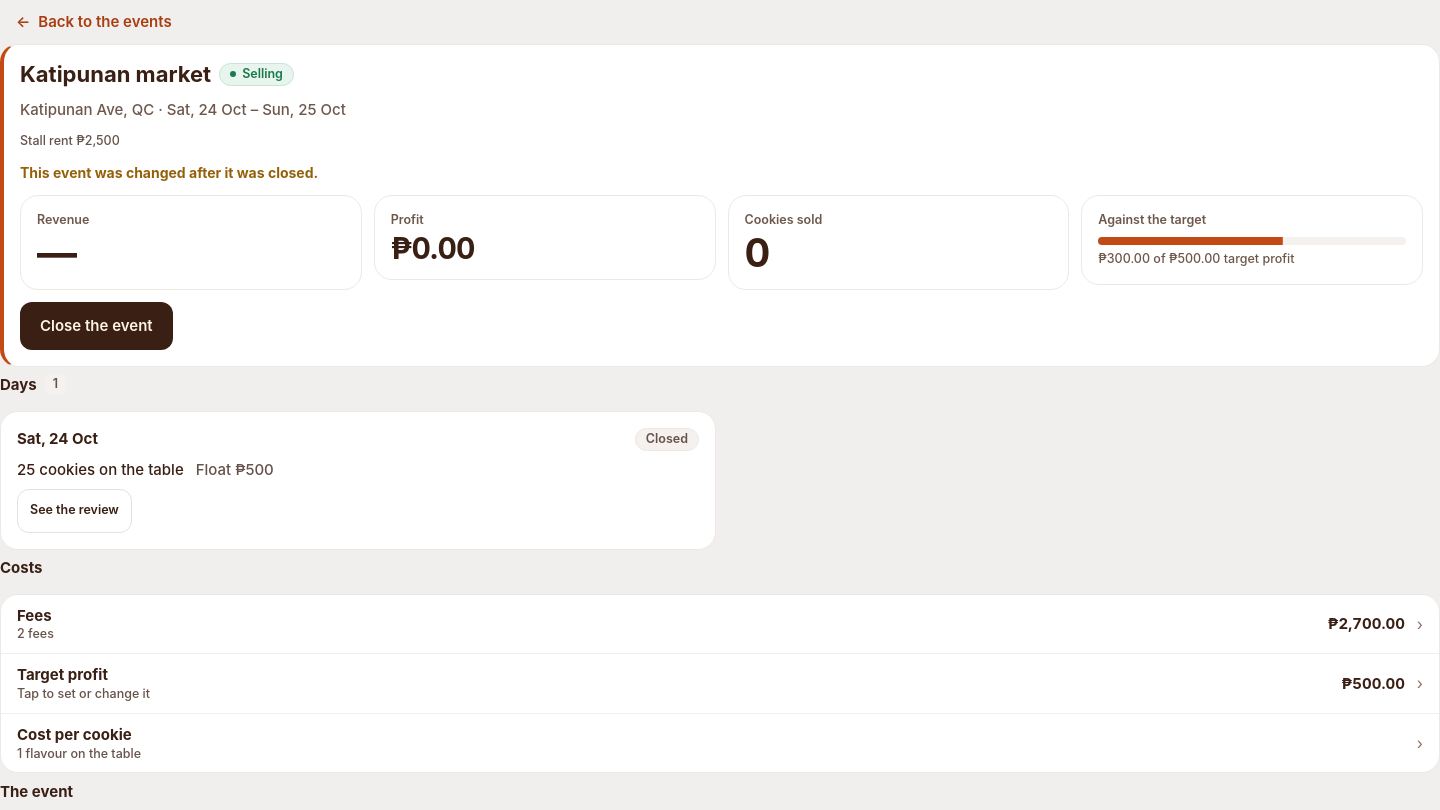
Test: the event page › asks before it closes the event, and says what the run refused
Click the button "Close the event" at {"x": 96, "y": 326}, box top-left (20, 302), bottom-right (173, 350)
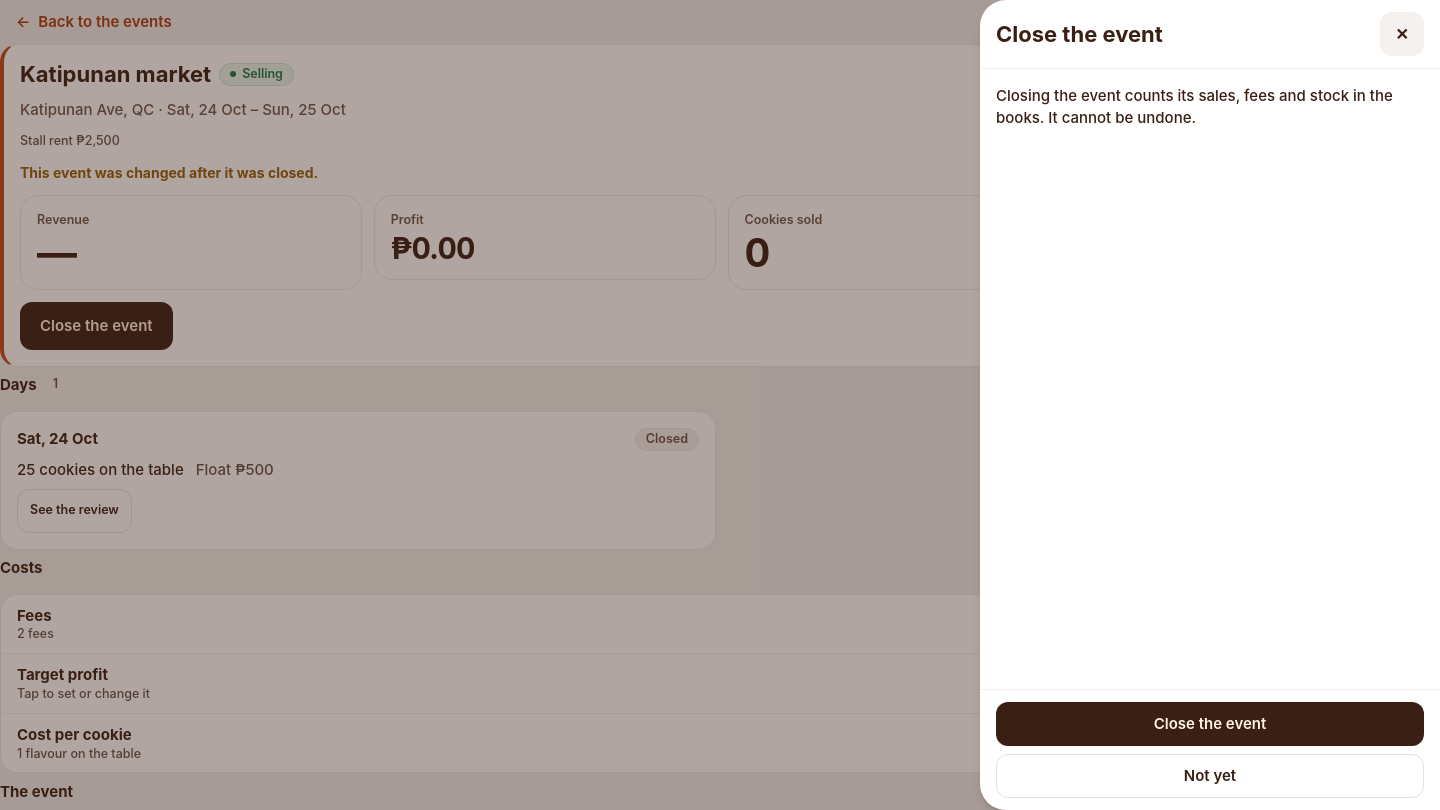
Result: the text "Closing the event counts its sales, fees and stock in the books. It cannot be undone." is shown at top-left (996, 86), bottom-right (1393, 127)
Click the button "Not yet" at {"x": 1210, "y": 776}, box top-left (996, 754), bottom-right (1424, 798)
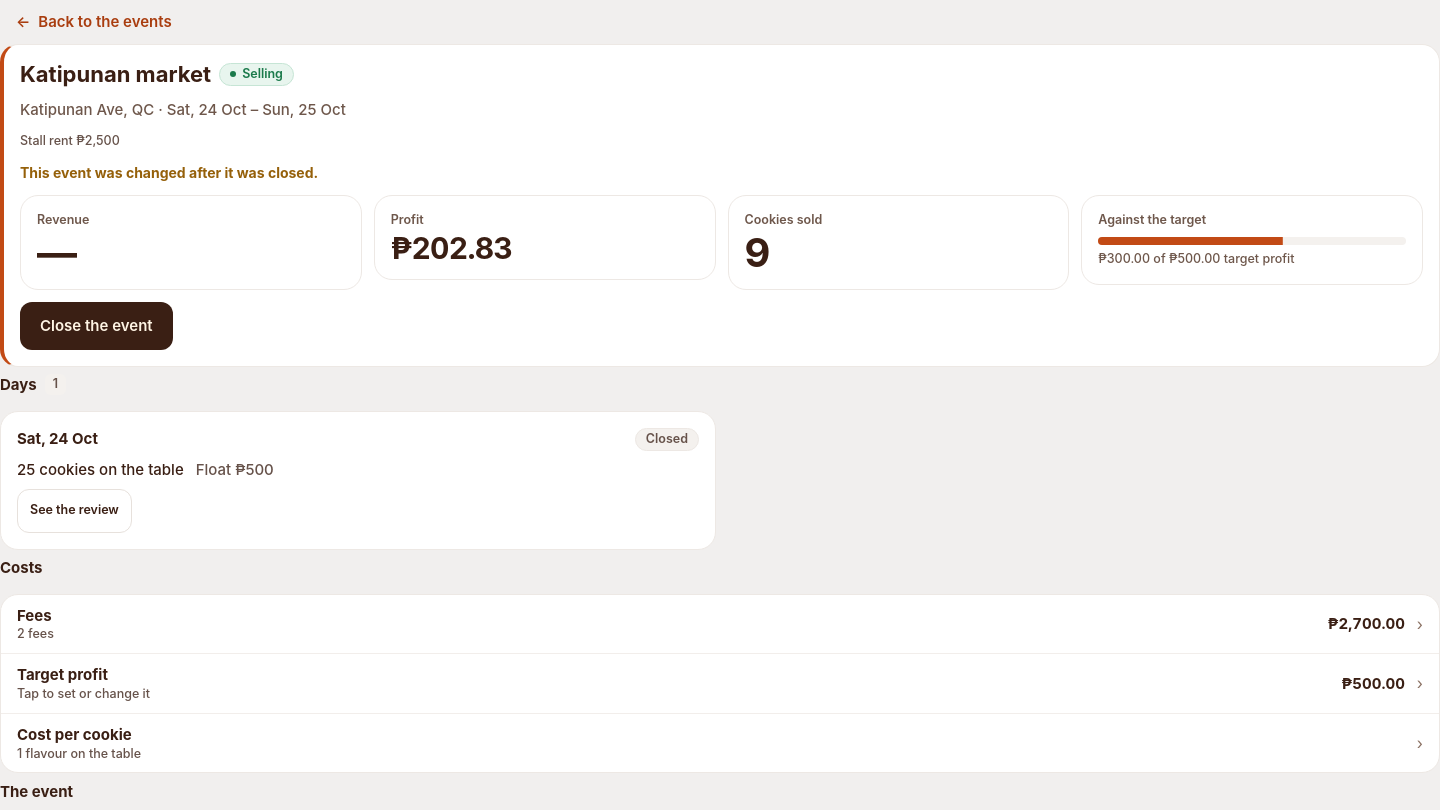
Result: the dialog is gone
Click the button "Close the event" at {"x": 96, "y": 326}, box top-left (20, 302), bottom-right (173, 350)
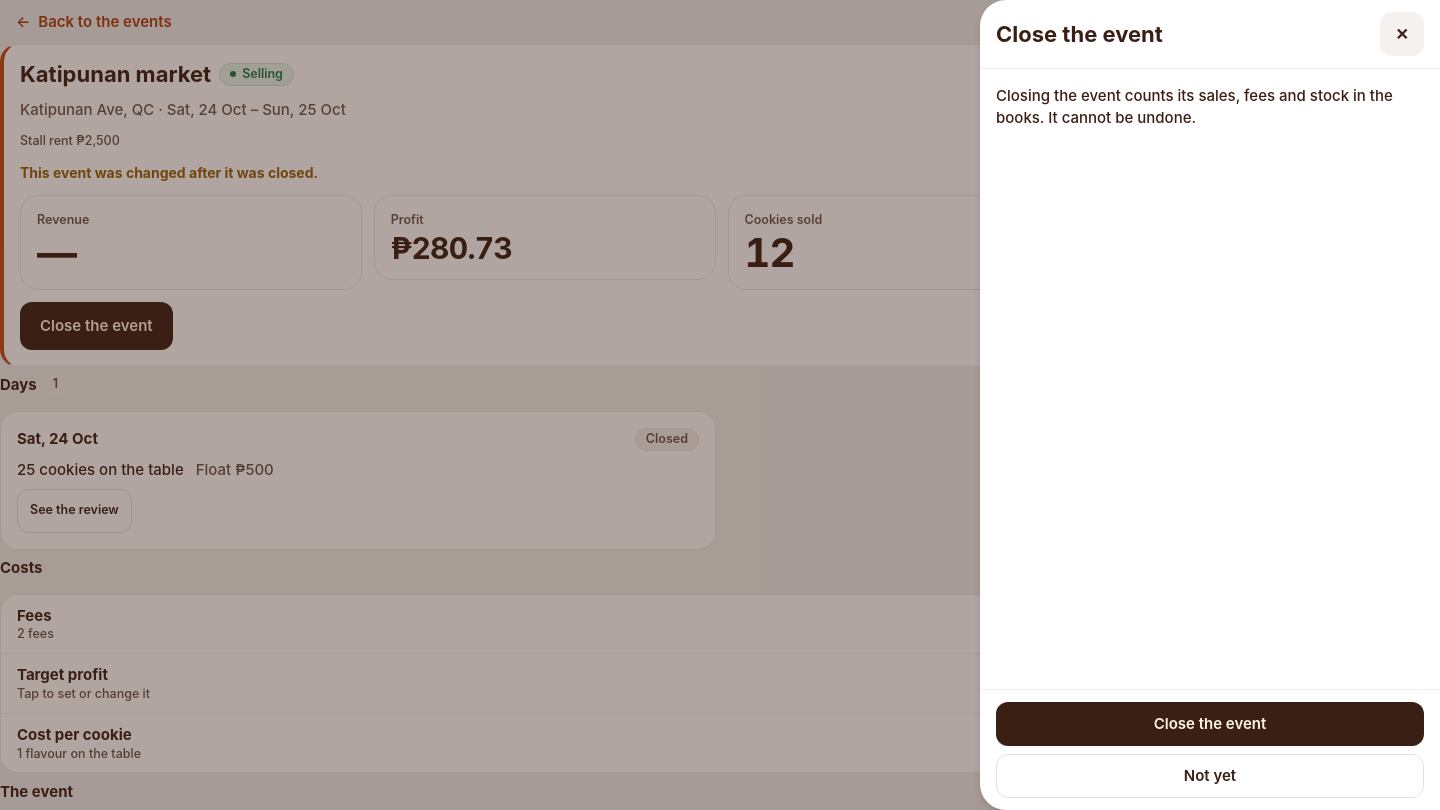
Click the button "Close the event" at {"x": 1210, "y": 724}, box top-left (996, 702), bottom-right (1424, 746)
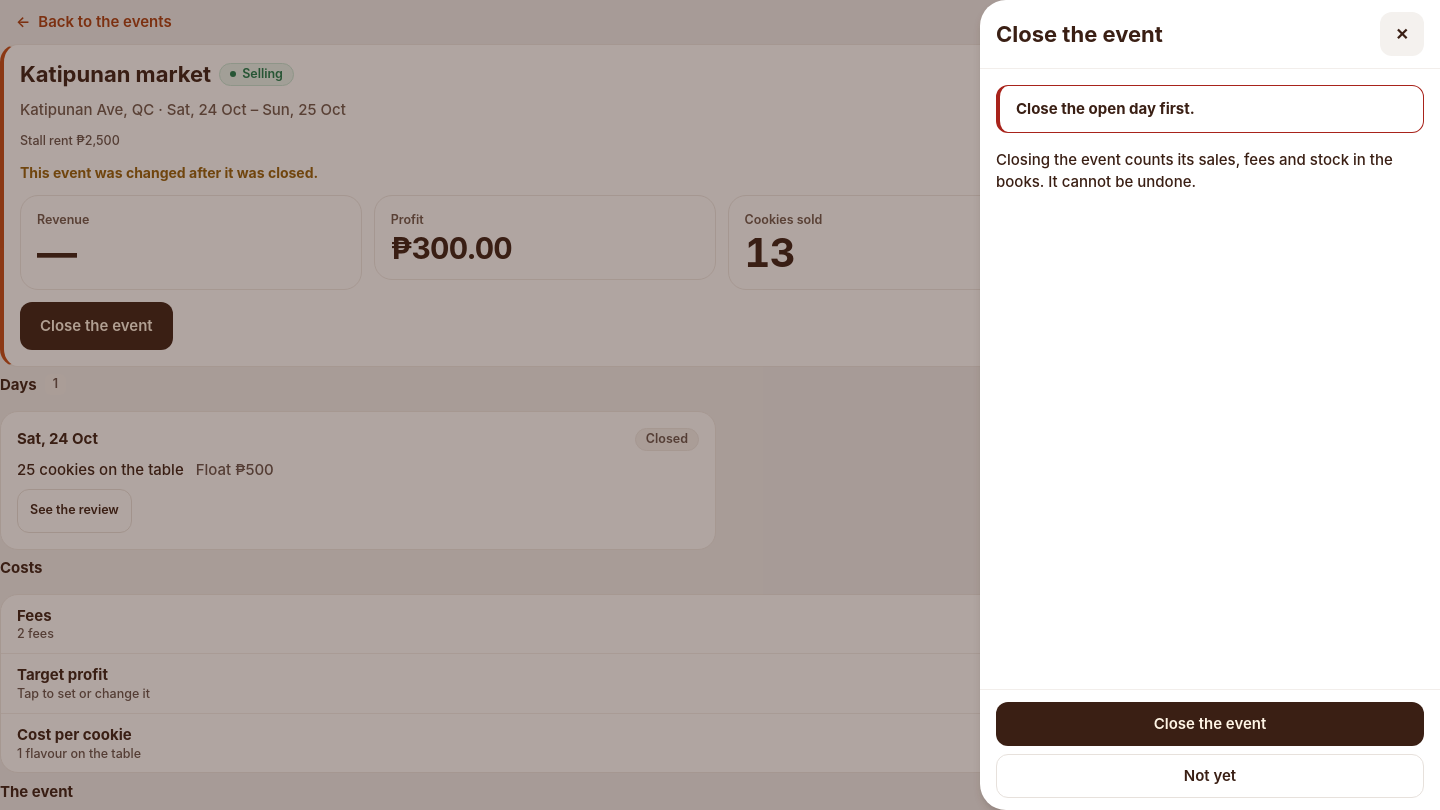
Result: the text "Close the open day first." is shown at top-left (1016, 99), bottom-right (1195, 118)
